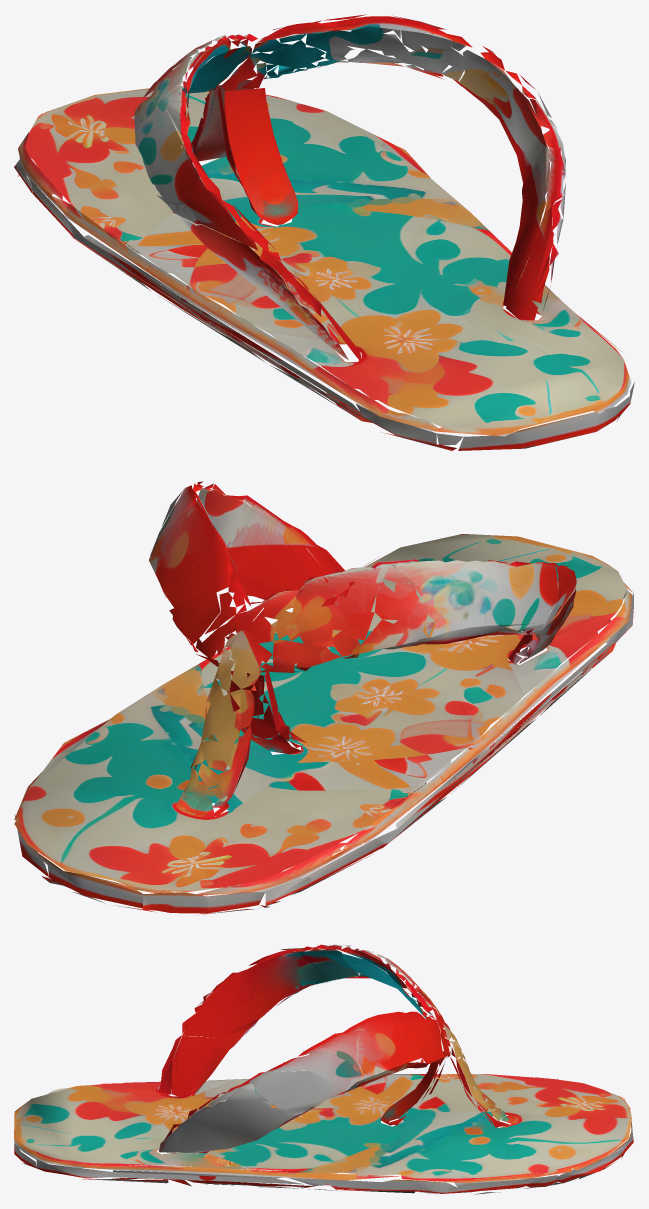
The model's file is chancla-lod2.glb.
The picture shows the model from 3 angles, top to bottom: view 1: azimuth 30°, elevation 25°; view 2: azimuth 150°, elevation 25°; view 3: azimuth 270°, elevation 25°; orthographic projection. The views are drawn at different scales.
Parts seen in each view (by area): view 1: textured_mesh.obj; view 2: textured_mesh.obj; view 3: textured_mesh.obj.
Boxes of the visible parts, x1,y1,x2,y2 form: textured_mesh.obj: [14, 14, 634, 450]; textured_mesh.obj: [14, 481, 633, 915]; textured_mesh.obj: [14, 944, 633, 1194].
Bounding box in the file's own units: 0.8005 × 0.4705 × 1.7.
Materials: 1 (1 with a texture image).
